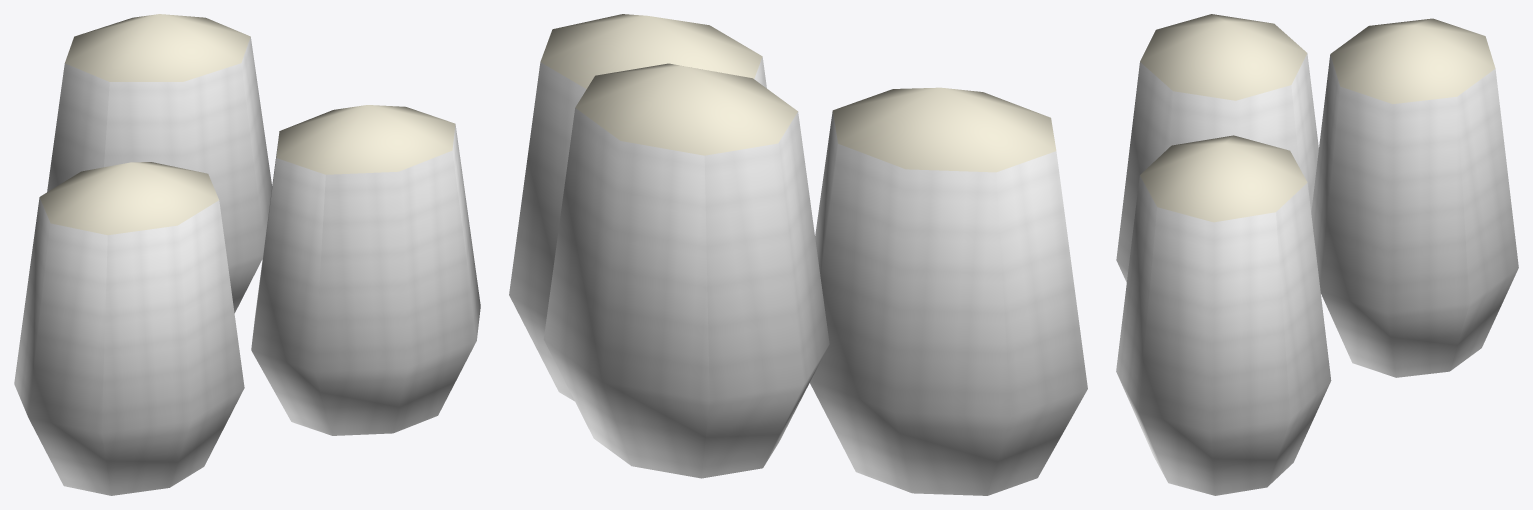
The model's file is food_rice_c.obj.
3 renders of one model, left to right at view 1: azimuth 30°, elevation 25°; view 2: azimuth 150°, elevation 25°; view 3: azimuth 270°, elevation 25°, orthographic. The views are drawn at different scales.
Visible parts, largest first — view 1: sack_2, sack_1, sack_3; view 2: sack_3, sack_1, sack_2; view 3: sack_2, sack_3, sack_1.
Boxes of the visible parts, x1=… form: sack_2: x1=251, y1=105, x2=480, y2=435; sack_1: x1=14, y1=162, x2=244, y2=495; sack_3: x1=47, y1=14, x2=272, y2=312; sack_3: x1=543, y1=63, x2=829, y2=478; sack_1: x1=810, y1=87, x2=1087, y2=495; sack_2: x1=509, y1=14, x2=766, y2=401; sack_2: x1=1116, y1=135, x2=1331, y2=495; sack_3: x1=1311, y1=18, x2=1518, y2=377; sack_1: x1=1116, y1=14, x2=1318, y2=282.
Bounding box in the file's own units: 0.4804 × 0.36 × 0.351.
